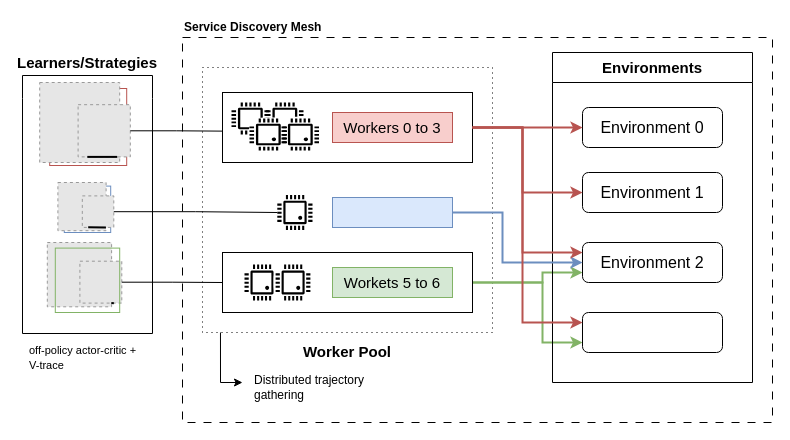
The diagram is 790 pixels wide and 440 high, and some of its shapes have lost their labels. Grey dashed boxes stand in for pictures. The centre of each missing label's shape, as x and y in pixels:
Environment 3: point (652, 332)
Worker 4: point (392, 212)
